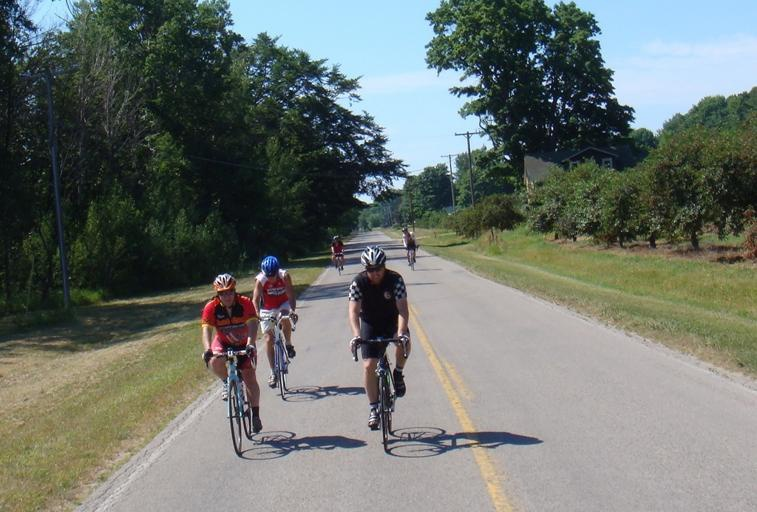non-vehicle: (348, 334, 409, 450), (202, 343, 259, 455), (256, 311, 297, 399), (403, 245, 420, 270), (330, 251, 344, 275)
